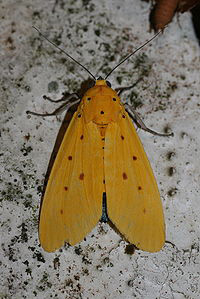Agape chloropyga: (20, 19, 172, 251)
moth: (22, 21, 174, 253)
